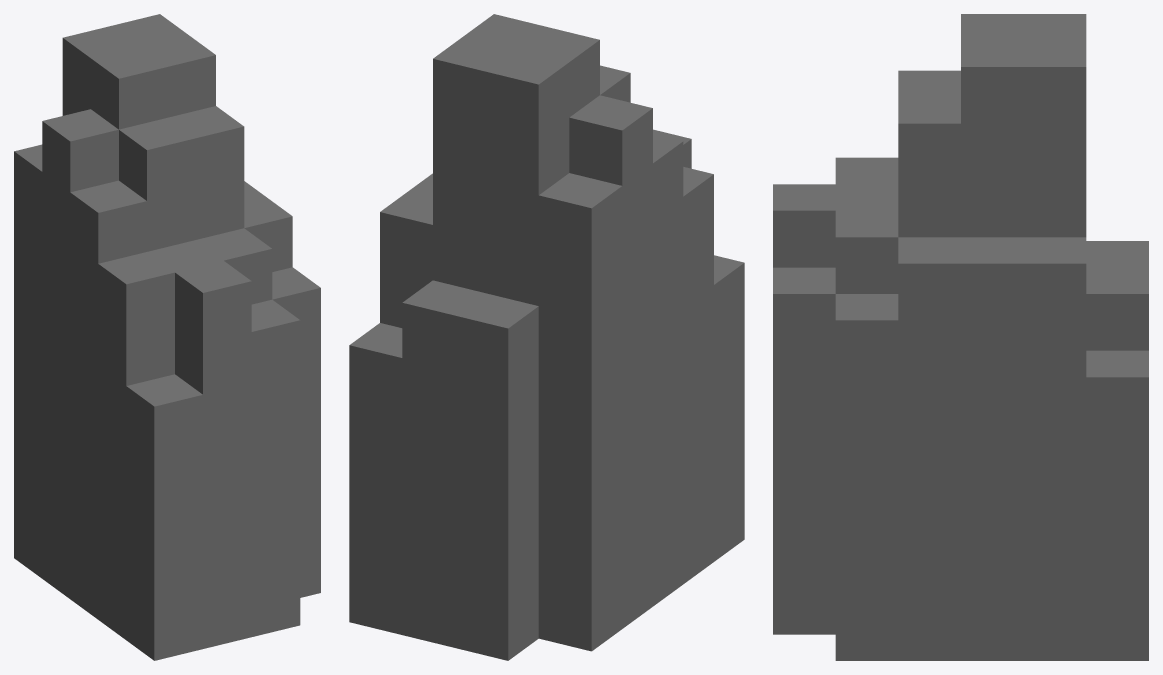
The model's file is Golem arm 2.obj.
The picture shows the model from 3 angles, left to right: view 1: azimuth 30°, elevation 25°; view 2: azimuth 150°, elevation 25°; view 3: azimuth 270°, elevation 25°; orthographic projection. The views are drawn at different scales.
Bounding box in the file's own units: 4 × 10 × 6.
Materials: 1 (1 with a texture image).
